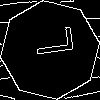L: (25, 25, 74, 59)
